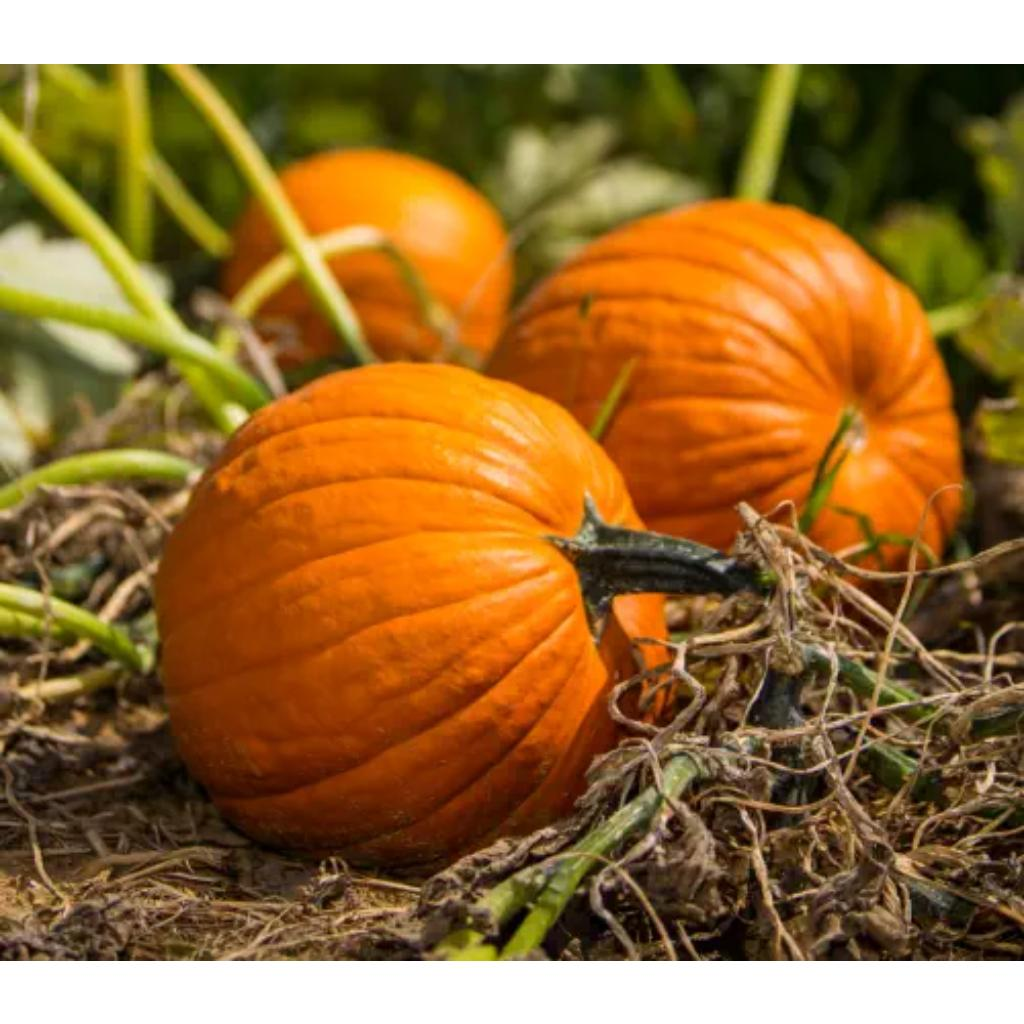pumpkin: (156, 363, 760, 861), (488, 201, 962, 567), (285, 149, 512, 361), (262, 283, 340, 361), (224, 203, 282, 289)
